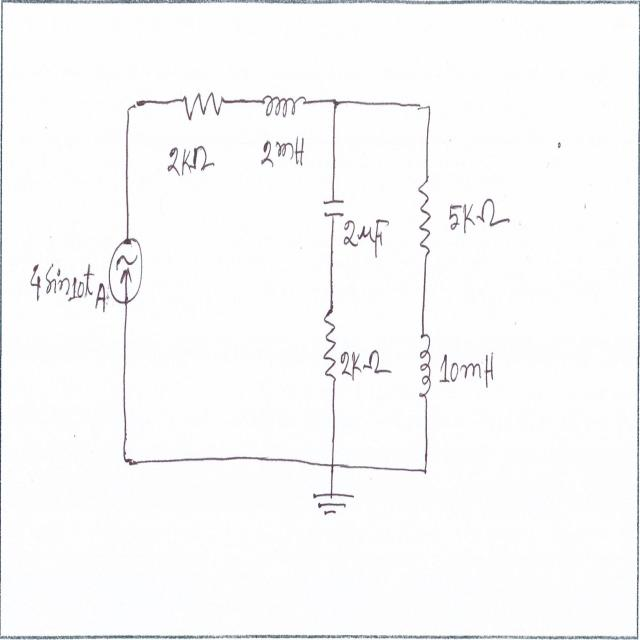capacitor: (322, 193, 344, 224)
current_source: (107, 230, 146, 312)
ground: (308, 486, 357, 524)
inductor: (262, 78, 307, 119), (417, 334, 432, 408)
resistor: (184, 84, 224, 123), (416, 175, 434, 260), (322, 300, 338, 390)
